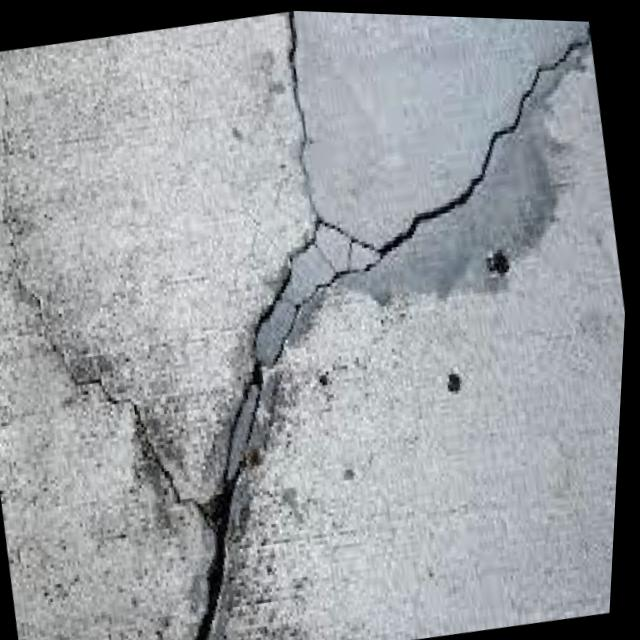Crack: (191, 6, 405, 369), (0, 143, 190, 514), (351, 19, 620, 252), (151, 361, 314, 640)
